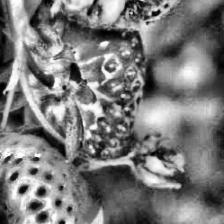Gray Mold: (116, 134, 188, 189)
